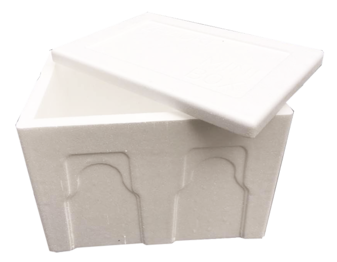Foam Box: (11, 8, 327, 255)
